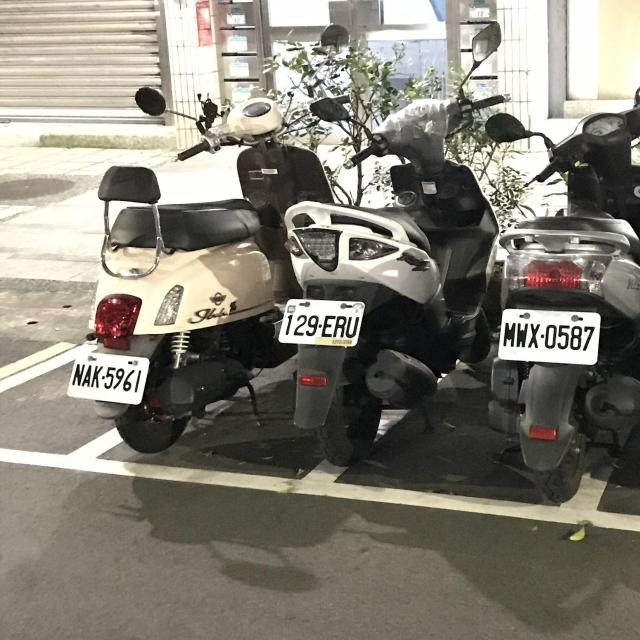W: (493, 306, 608, 368), (63, 344, 152, 410), (276, 292, 368, 349)
